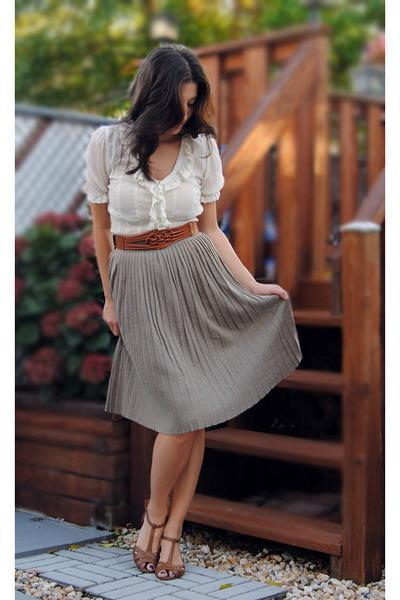short sleeve shirt: (81, 120, 226, 240)
skirt: (98, 238, 305, 439)
